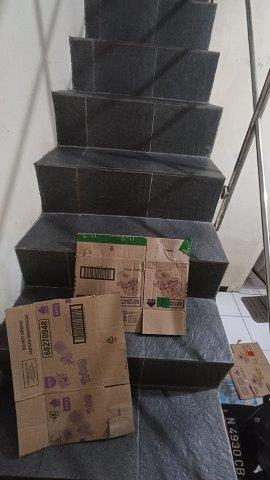kardus: (7, 294, 134, 455), (76, 235, 191, 335), (227, 343, 270, 397)
